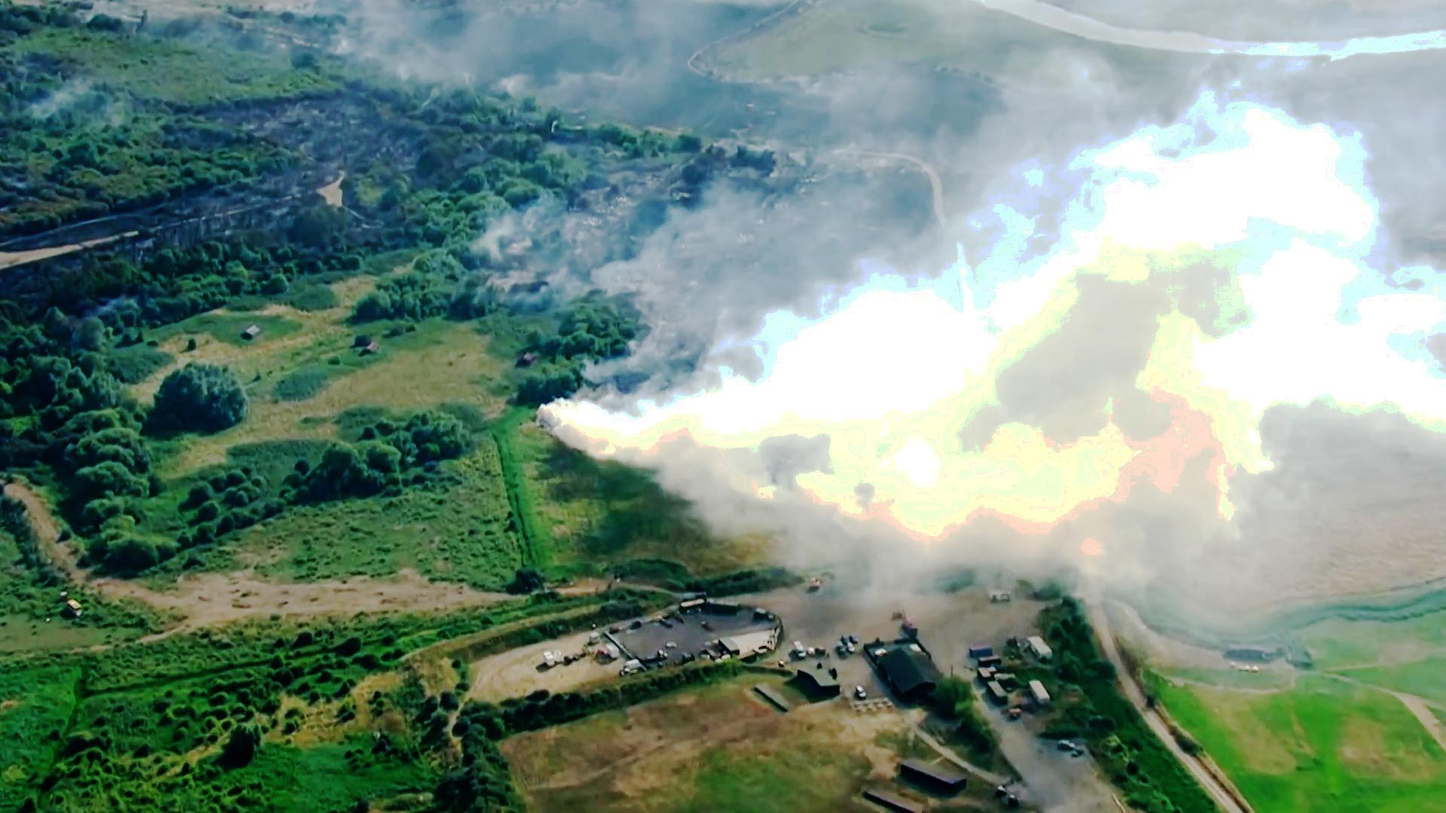smoke: (852, 309, 1035, 514)
